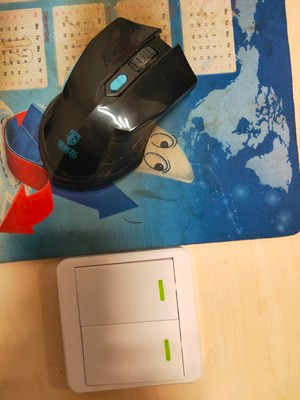switch: (70, 254, 185, 330), (74, 316, 192, 389)
